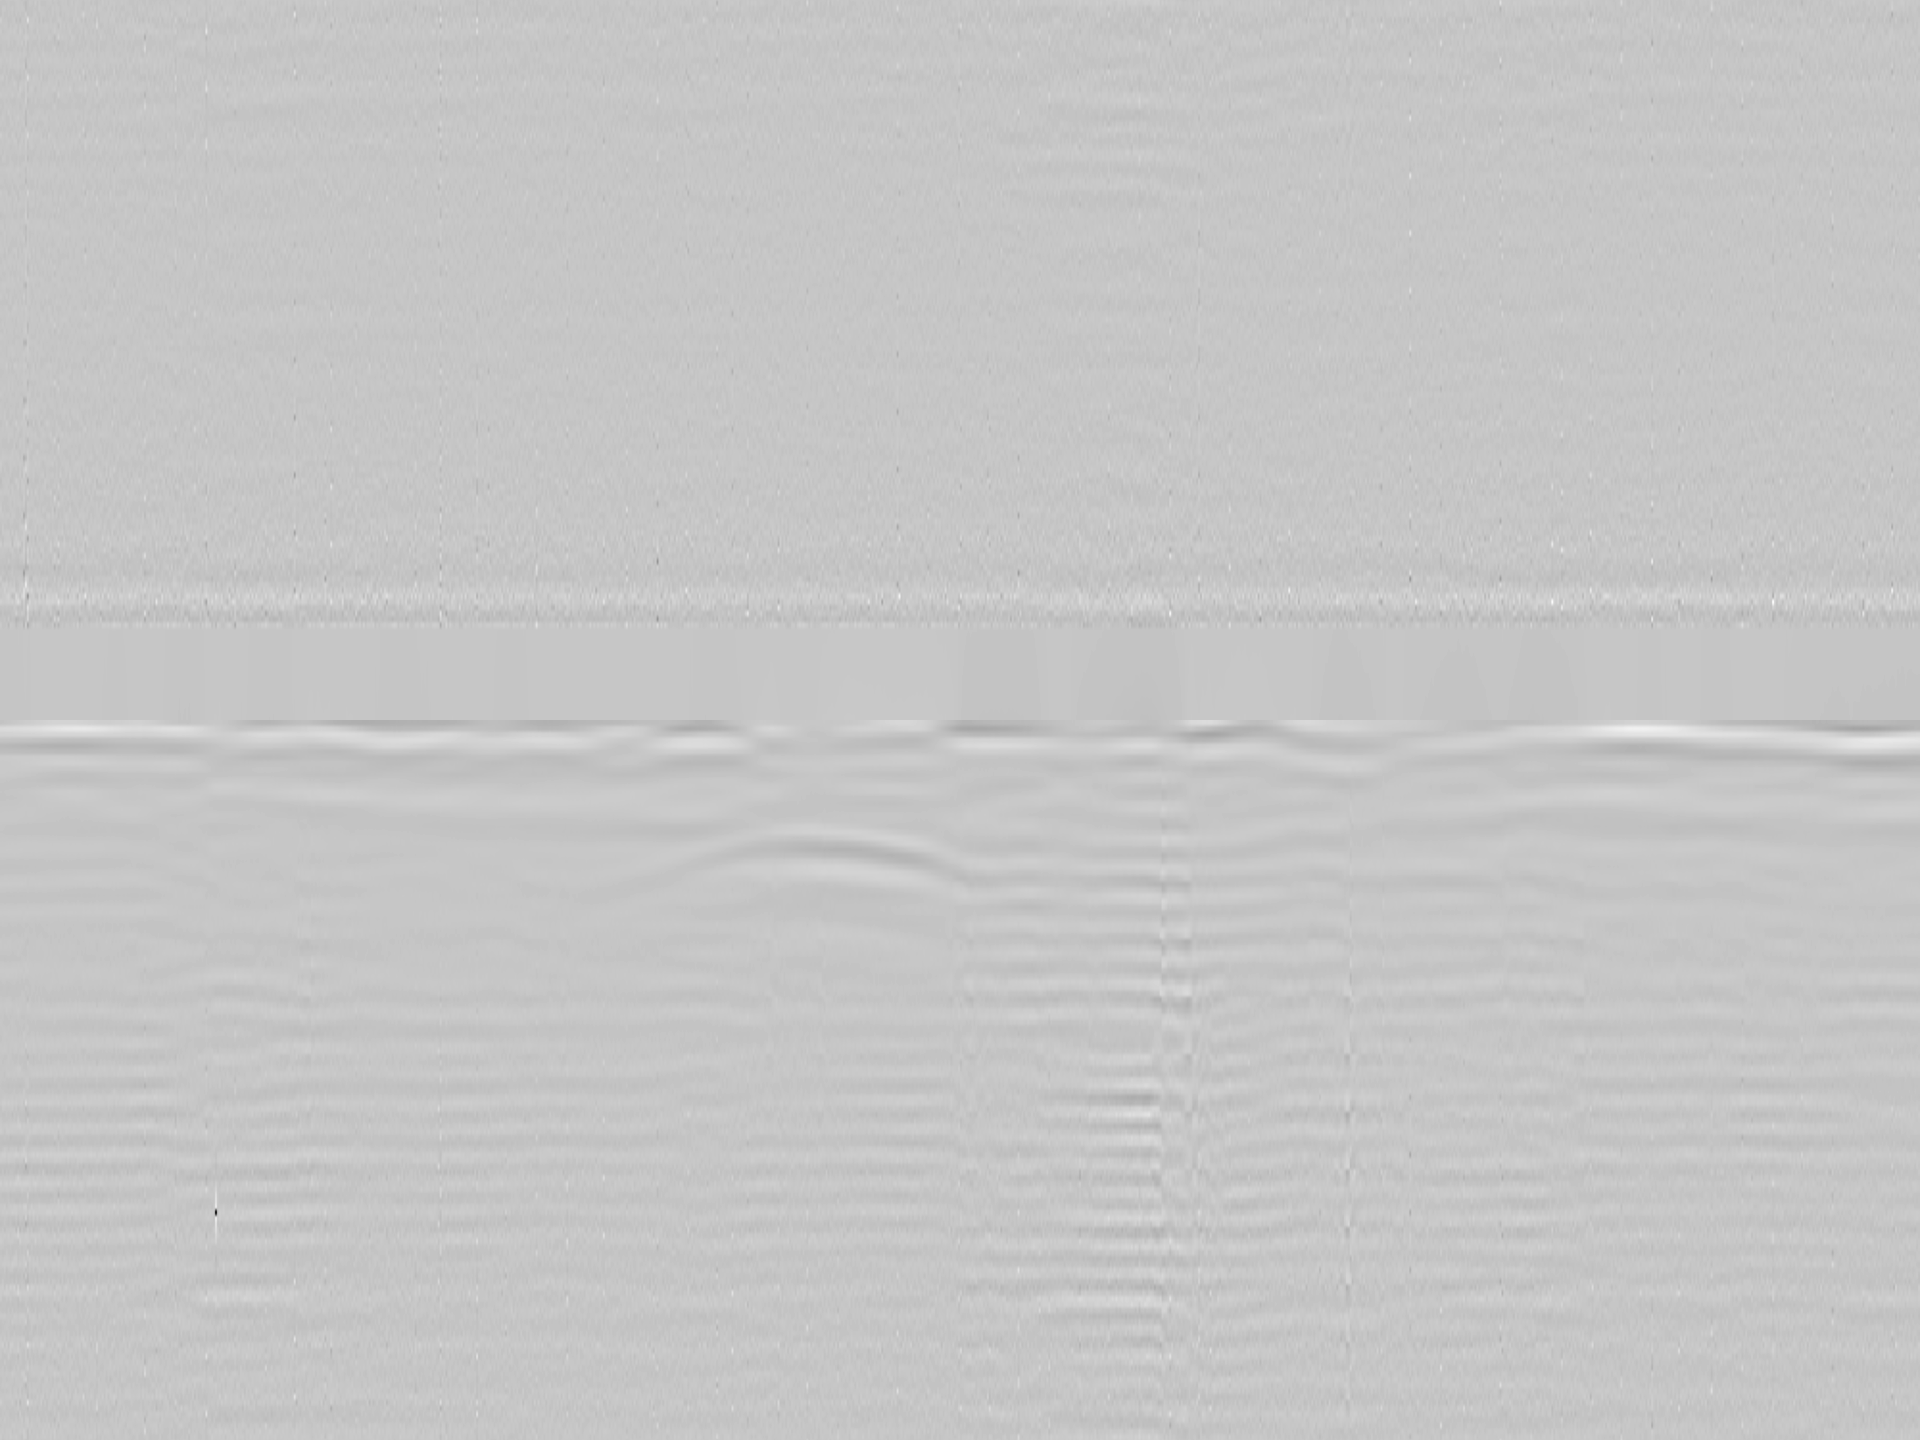Tunnel: (609, 826, 999, 902)
